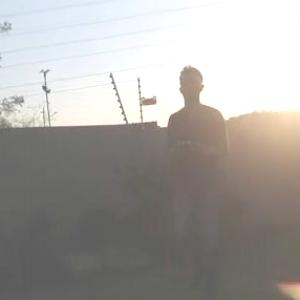follow: (162, 61, 235, 299)
